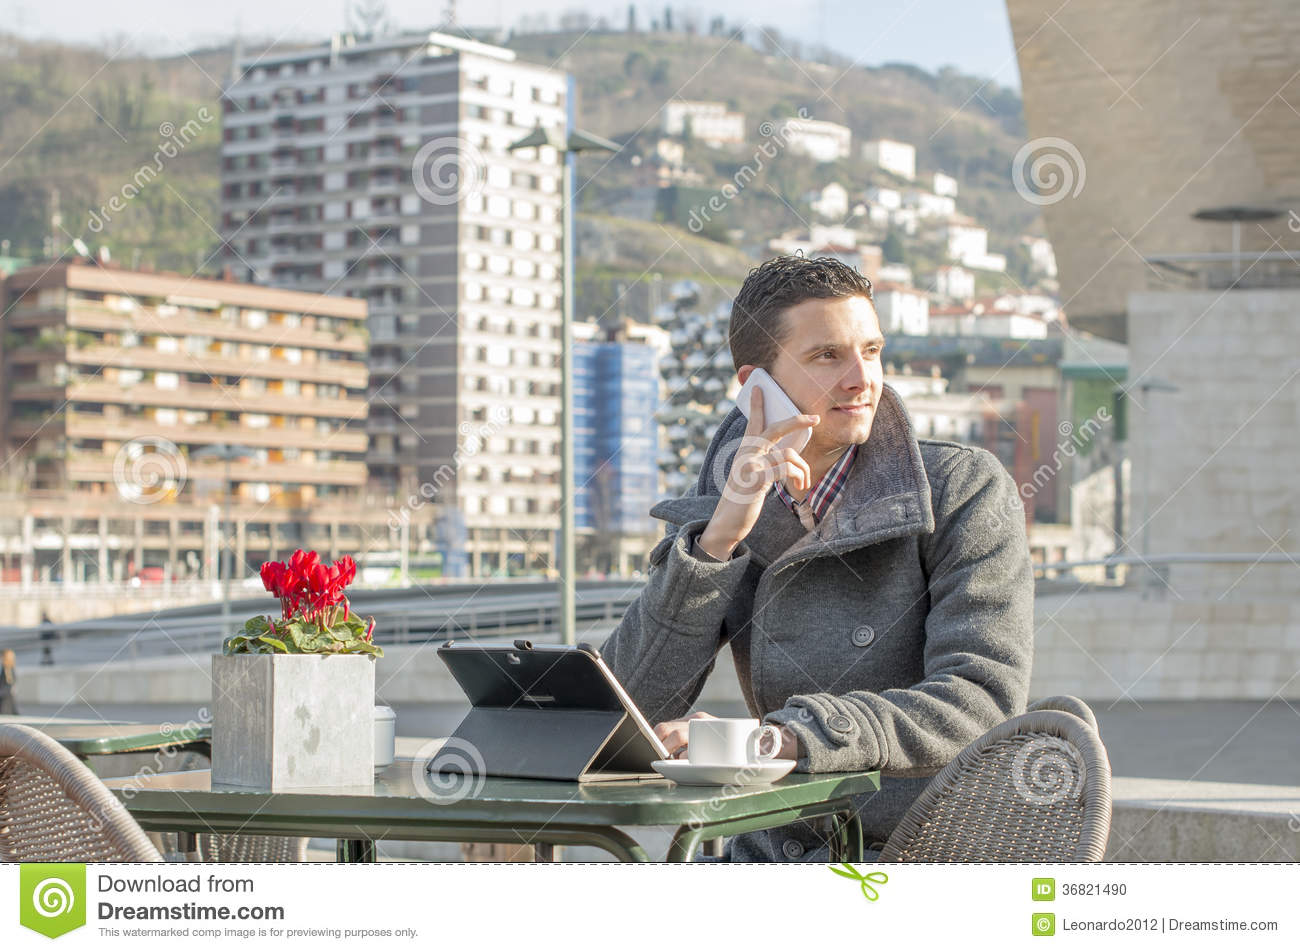phone: (737, 366, 811, 472)
talk: (725, 331, 889, 548)
